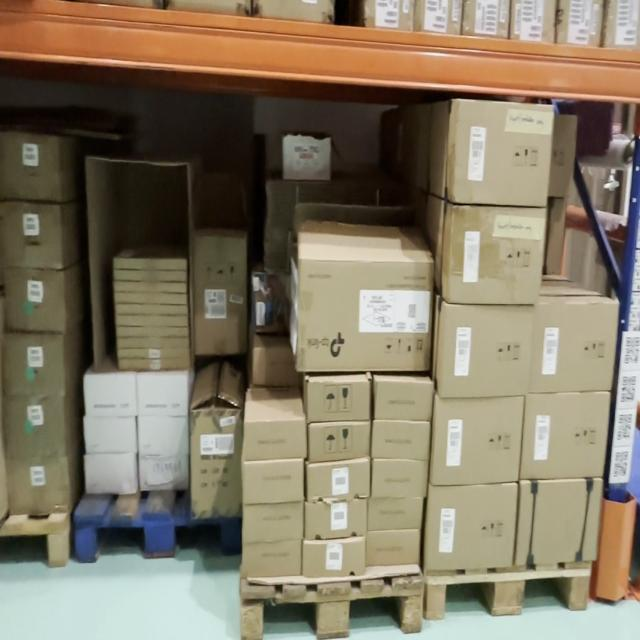box: (301, 262, 432, 370), (454, 102, 554, 206), (451, 209, 545, 303), (444, 306, 532, 400), (528, 303, 617, 394), (434, 397, 521, 490), (427, 485, 518, 571), (521, 394, 610, 480), (192, 238, 250, 356), (517, 483, 602, 563), (191, 411, 241, 517), (308, 460, 370, 499), (310, 422, 370, 462), (304, 538, 365, 577), (84, 373, 138, 416), (375, 380, 433, 420), (244, 462, 303, 501), (373, 421, 430, 461), (306, 499, 365, 537), (308, 383, 370, 419), (243, 504, 303, 541), (139, 374, 188, 419), (245, 422, 306, 457), (243, 540, 301, 576), (84, 453, 136, 492), (84, 417, 137, 455), (372, 462, 428, 496), (138, 455, 189, 492), (367, 529, 418, 565), (369, 496, 422, 530), (139, 420, 188, 455), (112, 259, 187, 270), (119, 359, 190, 370), (114, 271, 186, 281), (114, 282, 186, 292), (118, 338, 188, 348), (115, 305, 187, 314), (116, 328, 188, 337), (116, 316, 187, 325), (114, 295, 187, 303), (117, 350, 189, 357)
